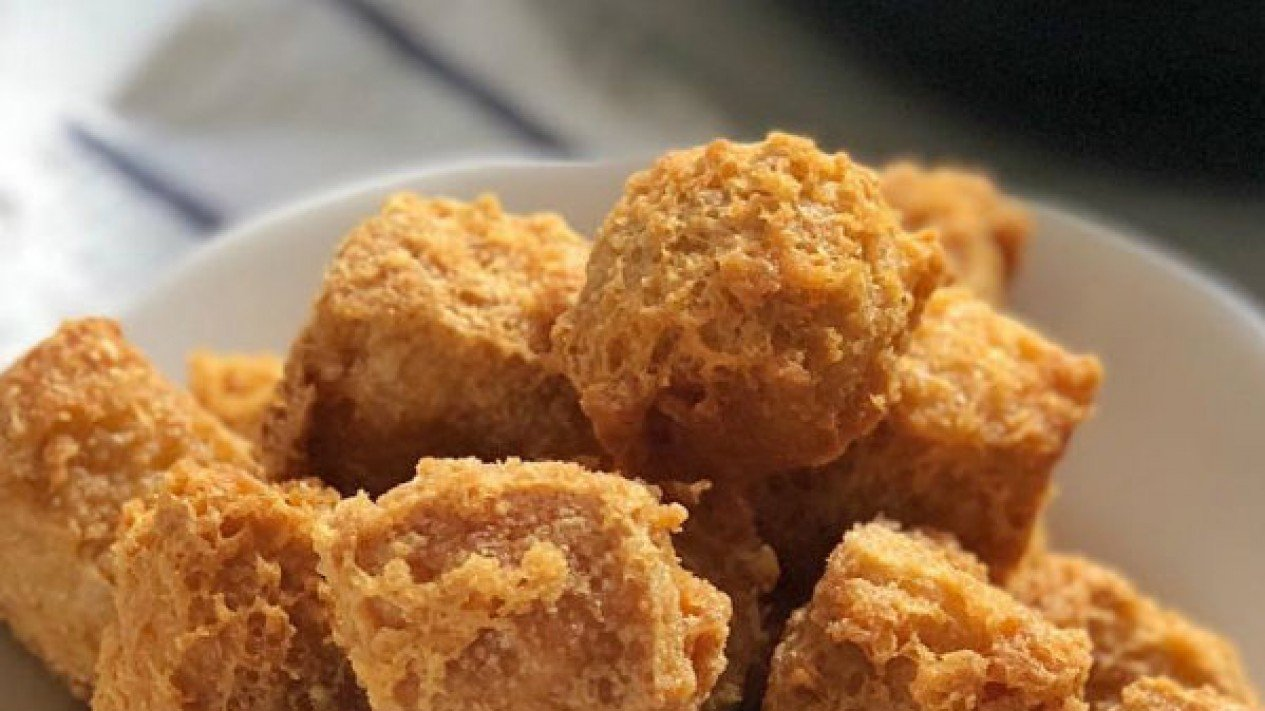Tahu: (324, 482, 741, 711), (559, 154, 872, 454), (315, 199, 563, 472), (849, 315, 1105, 514)
